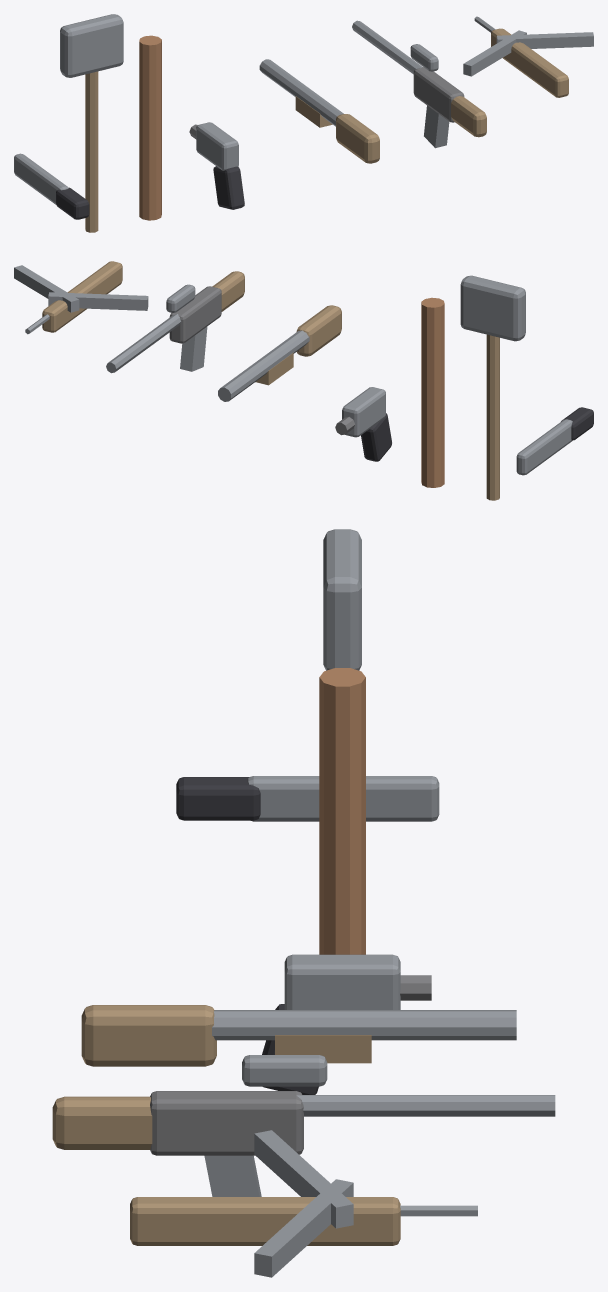
The model's file is weapon_kit.glb.
3 views of the same model, one above another, from view 1: azimuth 30°, elevation 25°; view 2: azimuth 150°, elevation 25°; view 3: azimuth 270°, elevation 25° (orthographic). The views are drawn at different scales.
Visible parts, largest first — view 1: weapon_kit; view 2: weapon_kit; view 3: weapon_kit.
Boxes of the visible parts, x1,y1,x2,y2 form: weapon_kit: [14, 14, 593, 232]; weapon_kit: [14, 261, 593, 500]; weapon_kit: [52, 529, 555, 1277].
Size of the model in its own units: 3.23 by 1.19 by 1.3.
